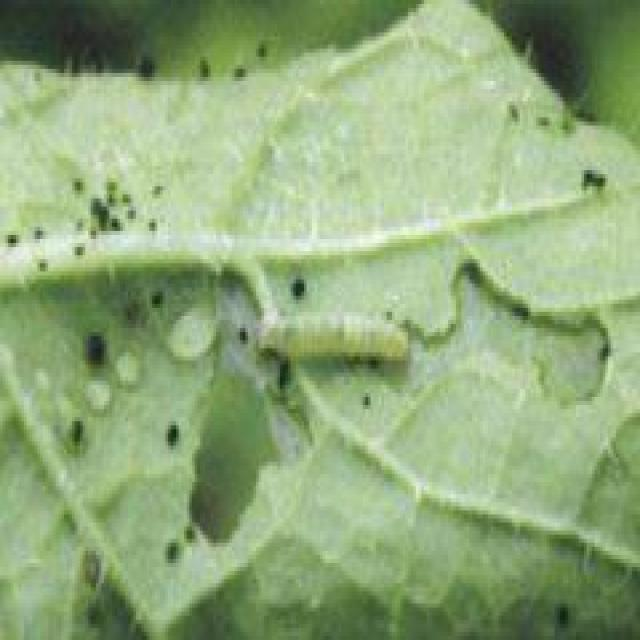armyworm: (256, 306, 427, 380)
